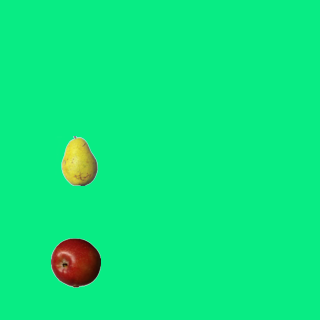Apple Braeburn: (50, 237, 100, 287)
Pear Monster: (54, 135, 104, 185)
